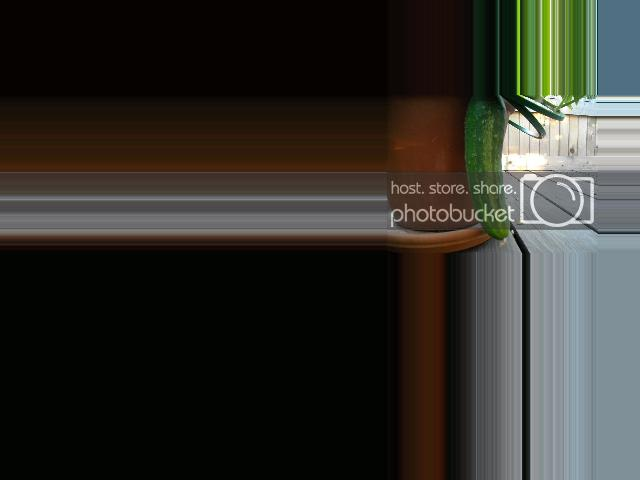cucumber: (465, 95, 510, 247)
